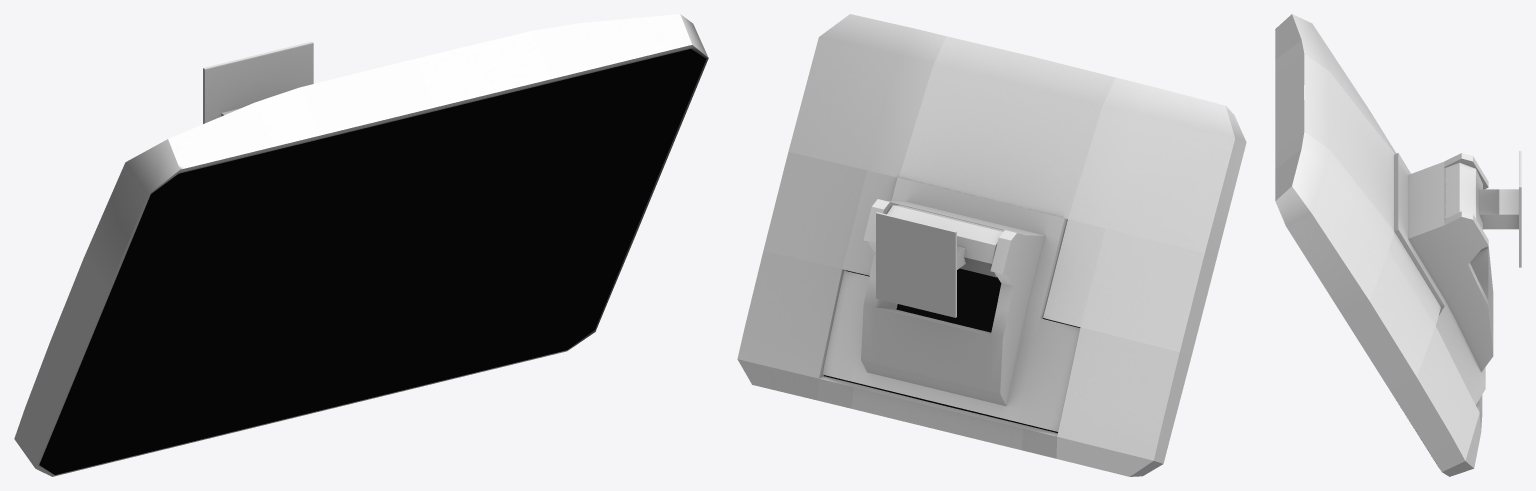
The model's file is UPOS_211_wall_white.fbx.
3 renders of one model, left to right at view 1: azimuth 30°, elevation 25°; view 2: azimuth 150°, elevation 25°; view 3: azimuth 270°, elevation 25°, orthographic. The views are drawn at different scales.
Parts seen in each view (by area): view 1: A, D, B, E; view 2: D, C, E, A; view 3: D, C, E.
Part boxes in pixels (bbox=[...]): A: bbox=[61, 64, 684, 459]; D: bbox=[14, 14, 708, 476]; B: bbox=[39, 49, 706, 474]; E: bbox=[203, 41, 313, 123]; D: bbox=[737, 14, 1246, 476]; C: bbox=[822, 177, 1080, 431]; E: bbox=[876, 205, 1003, 317]; A: bbox=[824, 268, 1080, 432]; D: bbox=[1275, 14, 1482, 476]; C: bbox=[1394, 153, 1493, 404]; E: bbox=[1444, 151, 1521, 267].
Size of the model in its own units: 34.81 by 25.34 by 18.98.
Materials: 1 (1 with a texture image).
